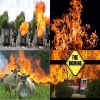fire: (50, 0, 98, 49), (51, 50, 99, 83), (1, 52, 48, 82), (35, 0, 49, 40), (19, 21, 29, 36), (52, 87, 56, 94), (5, 31, 8, 37)
